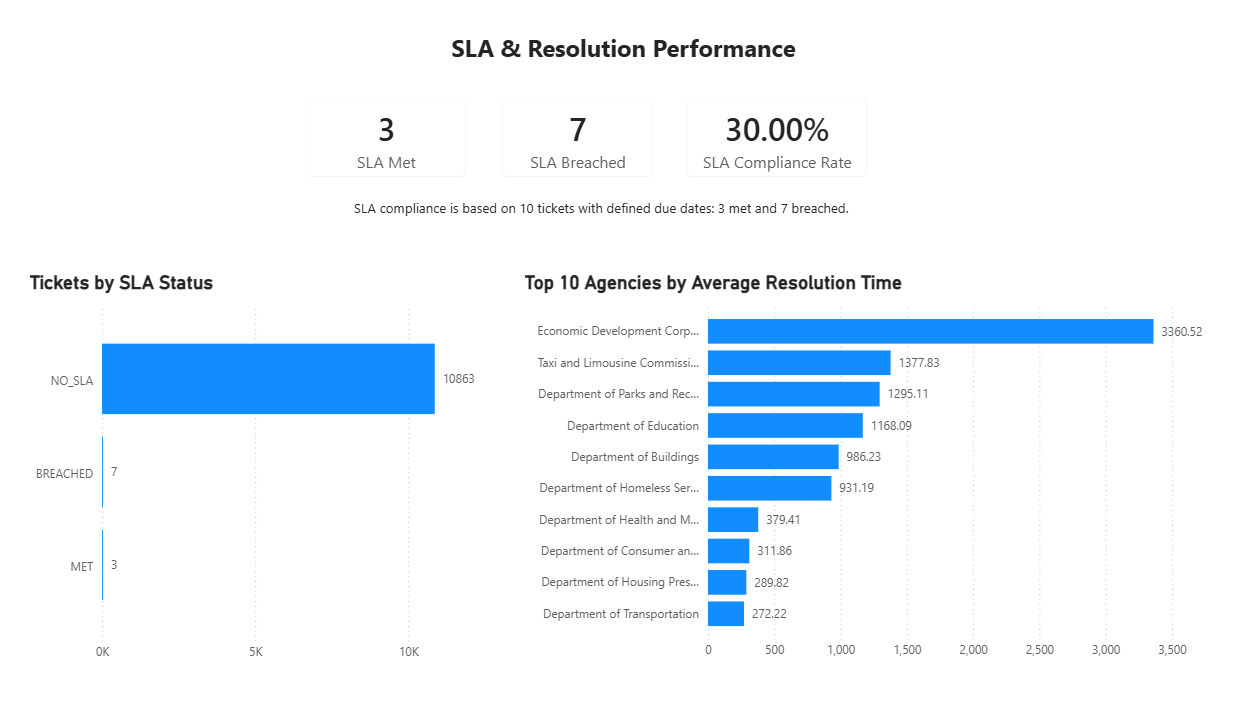

What the dashboard file says about the page in this screenshot:
{"tool":"powerbi","page":{"name":"SLA & Resolution Performance","canvas":[1280,720],"ordinal":1},"visuals":[{"type":"cardVisual","fields":{"Data":["reporting vw_agency_performance.SLA Met Display"]},"box":[299,85.9,197,112.1],"z":0},{"type":"cardVisual","fields":{"Data":["reporting vw_agency_performance.SLA Breached Display"]},"box":[496.5,85.9,186.4,112.1],"z":1000},{"type":"cardVisual","fields":{"Data":["reporting vw_agency_performance.SLA Compliance Rate"]},"box":[682.8,85.9,216.7,112.1],"z":2000},{"type":"clusteredBarChart","title":"Tickets by SLA Status","fields":{"Category":["reporting vw_sla_performance.sla_status"],"Y":["Sum(reporting vw_sla_performance.ticket_count)"]},"box":[32,278,470,402],"z":3000},{"type":"clusteredBarChart","title":"Top 10 Agencies by Average Resolution Time","fields":{"Category":["reporting vw_agency_performance.agency_name"],"Y":["Avg(reporting vw_agency_performance.average_resolution_hours)"]},"box":[532.2,277.8,710,400],"z":4000},{"type":"textbox","box":[331.8,198.5,565.2,31.8],"z":5000},{"type":"textbox","box":[31.7,28.3,1210,45],"z":6000}]}

Visuals, with their boxes in screenshot pixels (x1, y1, x2, y2), scaled from the page's 1280x720 canvas onto the 1251x706 screenshot:
cardVisual - reporting vw_agency_performance.SLA Met Display: bbox=(292, 84, 485, 194)
cardVisual - reporting vw_agency_performance.SLA Breached Display: bbox=(485, 84, 667, 194)
cardVisual - reporting vw_agency_performance.SLA Compliance Rate: bbox=(667, 84, 879, 194)
"Tickets by SLA Status" clusteredBarChart: bbox=(31, 273, 491, 667)
"Top 10 Agencies by Average Resolution Time" clusteredBarChart: bbox=(520, 272, 1214, 665)
textbox: bbox=(324, 195, 877, 226)
textbox: bbox=(31, 28, 1214, 72)
